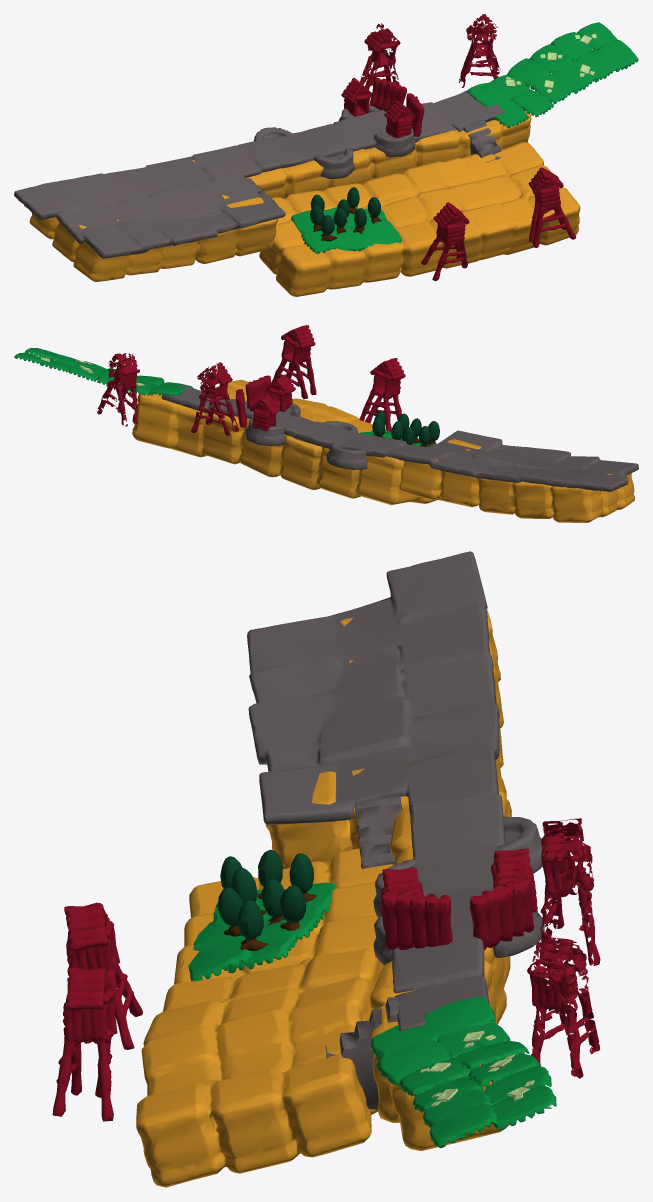
The model's file is leveldesign6.fbx.
3 views of the same model, one above another, from view 1: azimuth 30°, elevation 25°; view 2: azimuth 150°, elevation 25°; view 3: azimuth 270°, elevation 25° (orthographic). The views are drawn at different scales.
Parts seen in each view (by area): view 1: Layer_12, Layer_11, Layer_3, Layer_2, Layer_14, Layer_5 (×2), Layer_6 (×2), Layer_15, Layer_16, Layer_9, Layer_8, Layer_7 (+2 smaller); view 2: Layer_12, Layer_14, Layer_2, Layer_5 (×2), Layer_6 (×2), Layer_3, Layer_16, Layer_11, Layer_8, Layer_9, Layer_7; view 3: Layer_12, Layer_11, Layer_3, Layer_5 (×2), Layer_6 (×2), Layer_7, Layer_14, Layer_9, Layer_15, Layer_2, Layer_17, Layer_16 (+2 smaller).
Boxes of the visible parts, box(x1,y1,x2,y2) form: Layer_12: box(14, 90, 504, 258); Layer_11: box(259, 142, 580, 296); Layer_3: box(466, 22, 638, 128); Layer_2: box(29, 160, 277, 281); Layer_14: box(245, 99, 531, 198); Layer_5 (×2): box(364, 14, 563, 246); Layer_6 (×2): box(360, 40, 576, 281); Layer_15: box(291, 206, 402, 253); Layer_16: box(254, 105, 415, 178); Layer_9: box(310, 187, 381, 241); Layer_8: box(341, 78, 415, 138); Layer_7: box(369, 77, 424, 136); Layer_12: box(161, 384, 638, 491); Layer_14: box(132, 393, 420, 504); Layer_2: box(399, 439, 634, 522); Layer_5 (×2): box(107, 325, 405, 403); Layer_6 (×2): box(97, 355, 401, 435); Layer_3: box(14, 348, 192, 395); Layer_16: box(245, 403, 367, 469); Layer_11: box(201, 379, 443, 503); Layer_8: box(249, 374, 295, 431); Layer_9: box(372, 411, 439, 446); Layer_7: box(235, 375, 270, 427); Layer_12: box(247, 551, 505, 1031); Layer_11: box(136, 848, 393, 1187); Layer_3: box(370, 996, 556, 1147); Layer_5 (×2): box(62, 818, 593, 1043); Layer_6 (×2): box(52, 870, 600, 1121); Layer_7: box(381, 876, 534, 950); Layer_14: box(370, 790, 511, 1150); Layer_9: box(217, 849, 316, 950); Layer_15: box(188, 882, 336, 981); Layer_2: box(265, 609, 511, 868); Layer_17: box(325, 796, 402, 1109); Layer_16: box(373, 816, 544, 964).
Size of the model in its own units: 1.91 by 0.7728 by 0.4771.
